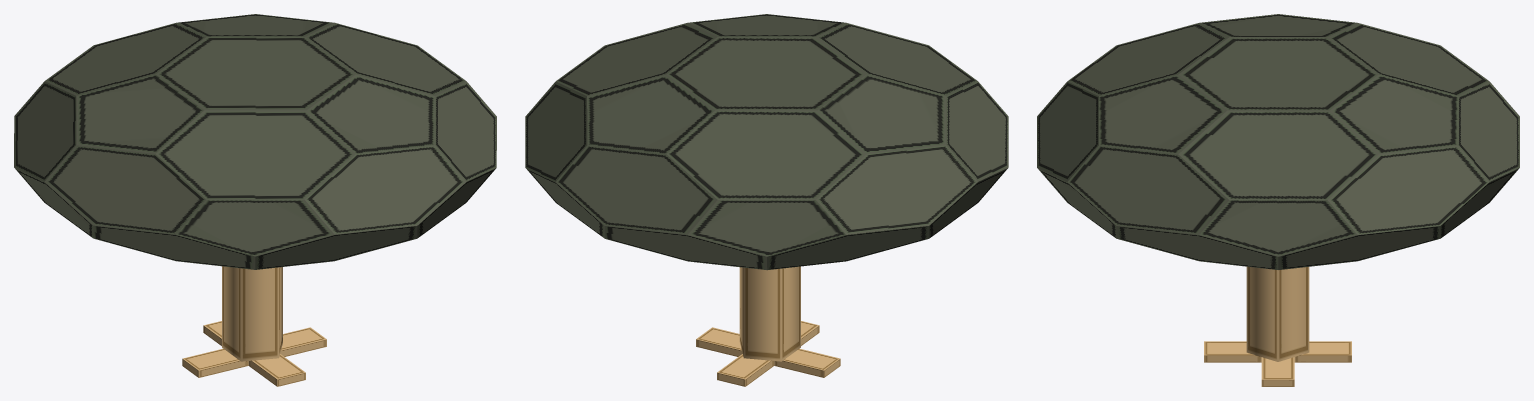
The model's file is Tree021.FBX.
3 views of the same model, side by side, from view 1: azimuth 30°, elevation 25°; view 2: azimuth 150°, elevation 25°; view 3: azimuth 270°, elevation 25° (orthographic).
Visible parts, largest first — view 1: tree021; view 2: tree021; view 3: tree021.
Part boxes in pixels (x1=…): tree021: x1=14, y1=14, x2=496, y2=386; tree021: x1=525, y1=14, x2=1008, y2=386; tree021: x1=1037, y1=14, x2=1519, y2=386.
Size of the model in its own units: 296 by 189 by 293.
Materials: 1 (1 with a texture image).
